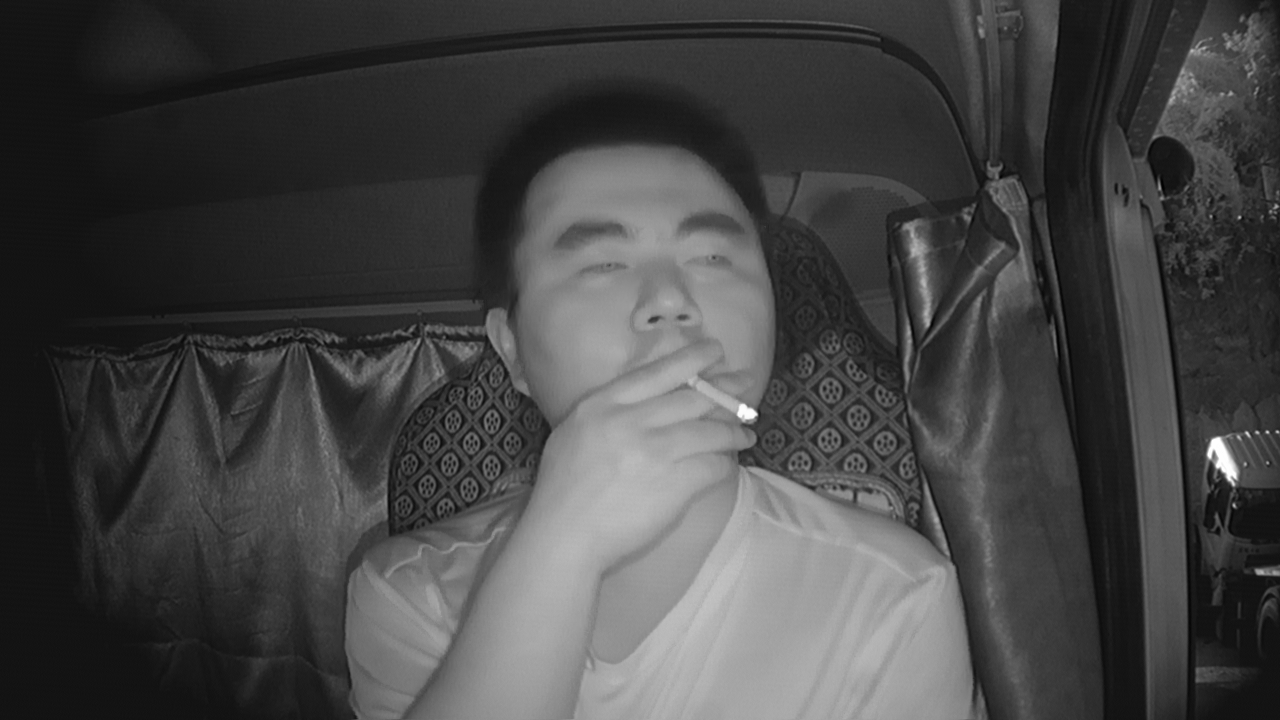hand: (620, 343, 768, 496)
